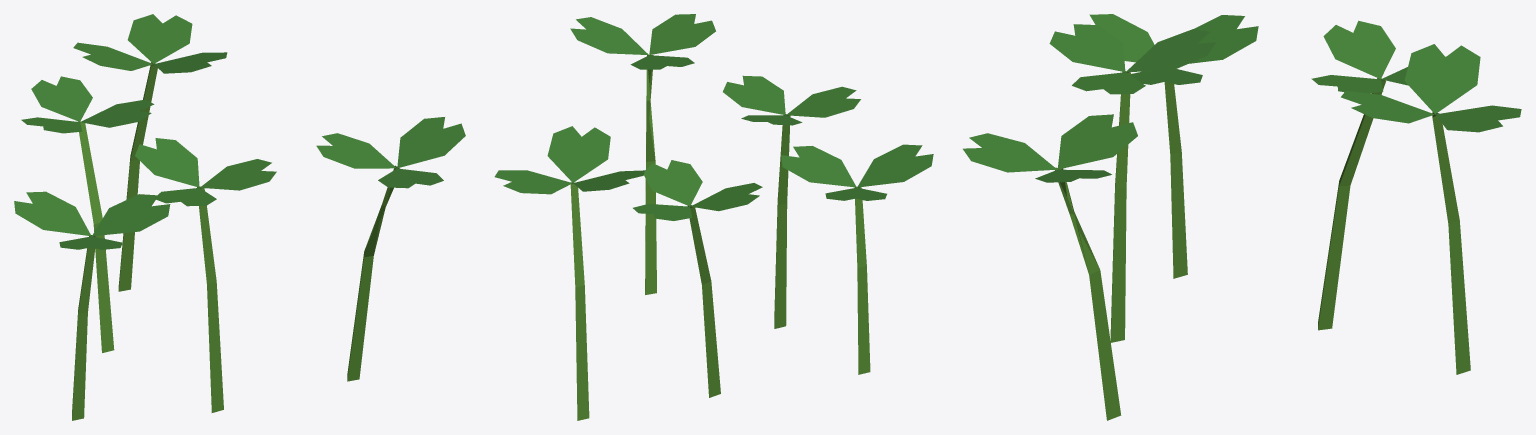
The model's file is clover_patch_small.fbx.
3 renders of one model, left to right at view 1: azimuth 30°, elevation 25°; view 2: azimuth 150°, elevation 25°; view 3: azimuth 270°, elevation 25°, orthographic. The views are drawn at different scales.
Visible parts, largest first — view 1: clover_patch_small; view 2: clover_patch_small; view 3: clover_patch_small.
Boxes of the visible parts, x1,y1,x2,y2 form: clover_patch_small: [14, 14, 465, 420]; clover_patch_small: [494, 14, 933, 420]; clover_patch_small: [963, 14, 1521, 420].
Size of the model in its own units: 13.5 by 8.56 by 14.54.
